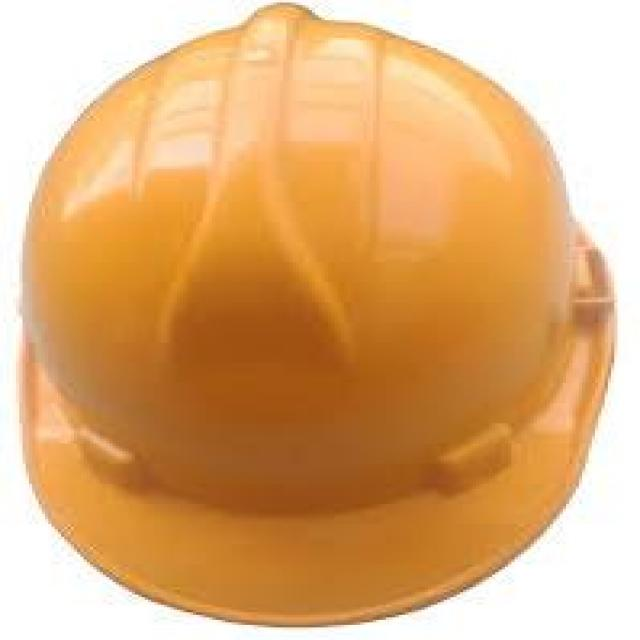Safety-Helmet: (0, 2, 630, 619)
